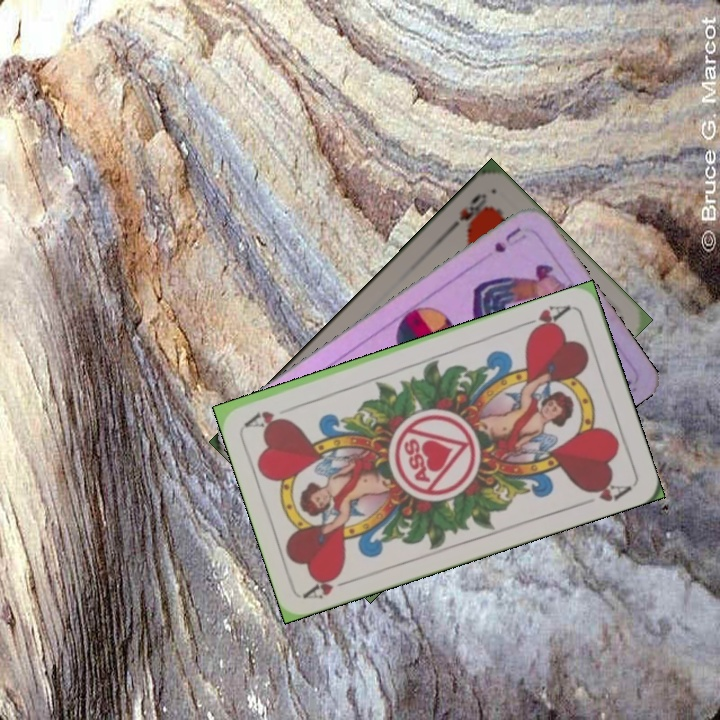HA: (301, 567, 359, 602), (517, 301, 573, 337)
HO: (443, 189, 490, 235)
SU: (490, 223, 530, 256)
